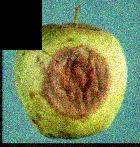rotten apple: (7, 21, 128, 141)
